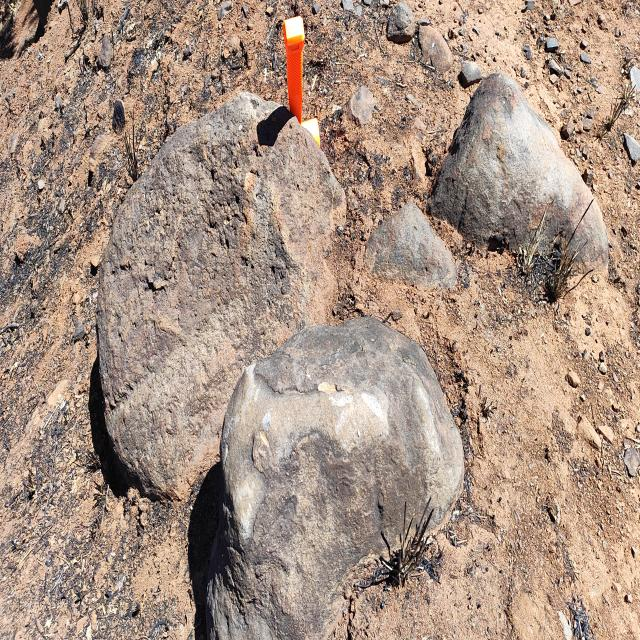Orange_hammer: (282, 14, 321, 149)
